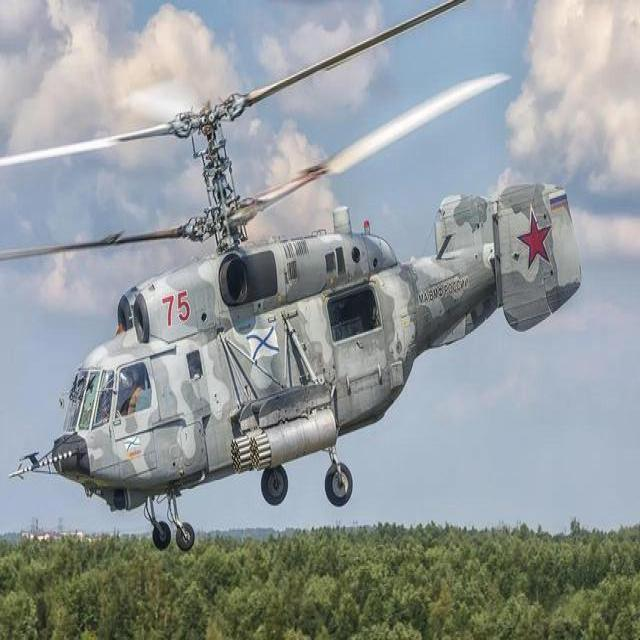MIL_HELO: (21, 0, 601, 555)
